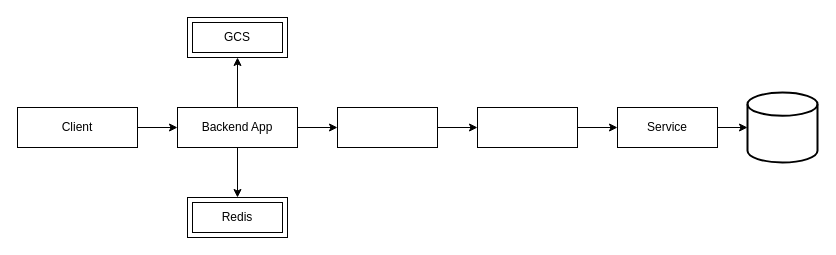
The diagram is 836 pixels wide and 255 high, and some of its shapes have lost their labels. Each missing label, with the centre of its shape:
"Application" belongs at point (387, 127).
"Payload" belongs at point (527, 127).
"PostgreSQL" belongs at point (782, 127).
